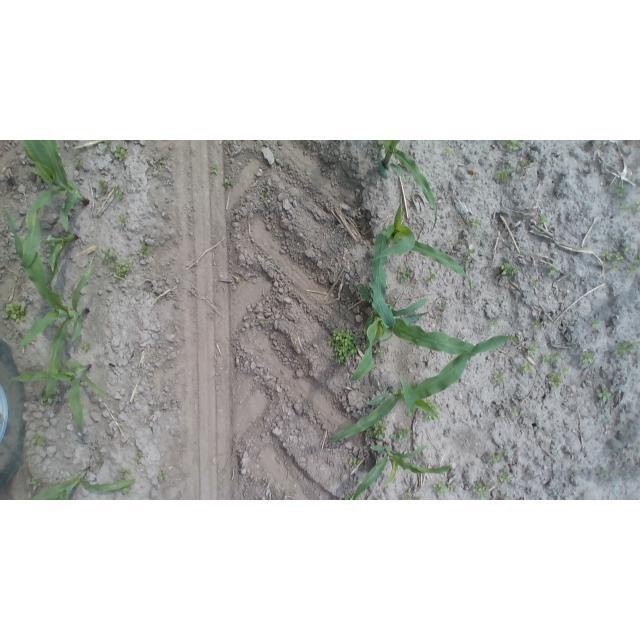Maize: (324, 333, 517, 445), (3, 199, 96, 408), (347, 281, 511, 382), (370, 202, 474, 331), (20, 140, 91, 270), (9, 359, 109, 433), (345, 439, 454, 498), (375, 141, 444, 218), (31, 196, 80, 292), (31, 464, 137, 500)
Weeds: (328, 328, 359, 366), (108, 258, 133, 282), (4, 302, 26, 323), (471, 481, 496, 499), (612, 340, 638, 357), (546, 369, 566, 389), (391, 427, 414, 444), (367, 422, 388, 440), (493, 166, 513, 184), (425, 399, 441, 419), (499, 261, 517, 278), (579, 348, 597, 365), (112, 146, 131, 162), (432, 480, 450, 496), (100, 248, 116, 266), (597, 386, 612, 403), (30, 433, 48, 447), (137, 243, 153, 258), (40, 390, 55, 405), (116, 467, 132, 481), (499, 466, 513, 482), (398, 266, 411, 283), (524, 342, 539, 356), (613, 183, 627, 198), (500, 140, 521, 150), (425, 406, 438, 422), (626, 258, 638, 275), (463, 248, 476, 263), (401, 489, 418, 500), (489, 452, 503, 465), (520, 360, 533, 374), (30, 477, 43, 491), (111, 186, 123, 201), (589, 318, 601, 333), (470, 216, 483, 229), (9, 330, 22, 343), (349, 456, 362, 469), (540, 352, 554, 364), (116, 214, 128, 228), (492, 371, 504, 385), (601, 251, 616, 262), (96, 179, 108, 191), (223, 175, 235, 187), (424, 272, 437, 283), (547, 265, 560, 276), (157, 469, 168, 482), (538, 214, 548, 228), (343, 493, 362, 500), (444, 236, 455, 248), (529, 276, 540, 288), (157, 156, 168, 168), (443, 146, 454, 158), (620, 243, 631, 255), (13, 275, 23, 288), (531, 318, 544, 328), (425, 412, 436, 423), (491, 317, 502, 328), (377, 347, 388, 358), (616, 249, 626, 261), (210, 164, 220, 176), (81, 340, 91, 352), (618, 203, 630, 213), (135, 451, 145, 463), (120, 486, 132, 496), (518, 159, 531, 168), (510, 334, 520, 345), (101, 140, 114, 148), (553, 350, 563, 360), (509, 407, 519, 416), (74, 159, 83, 169), (437, 302, 446, 311), (260, 191, 268, 201), (632, 202, 638, 215), (152, 183, 162, 190), (260, 319, 268, 326)
